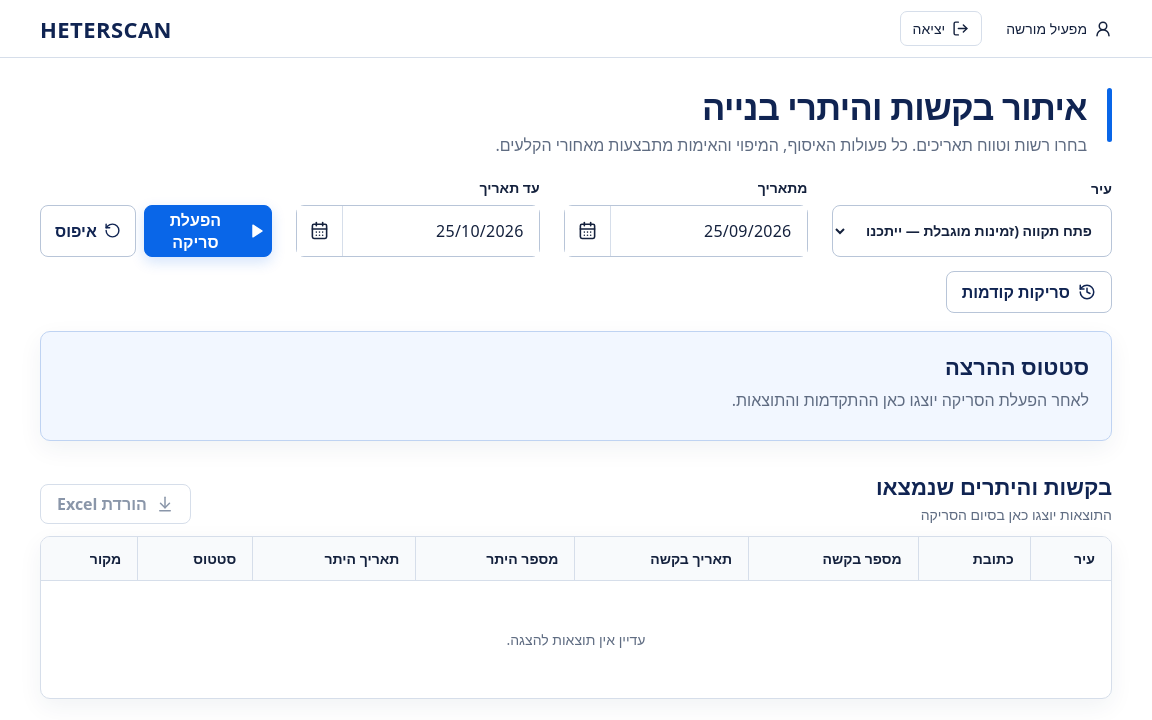
Test: App cancellation reset › clears a finished run from the screen without changing saved data
Click the button "הפעלת סריקה" at coordinates (208, 231), box [144, 205, 272, 257]
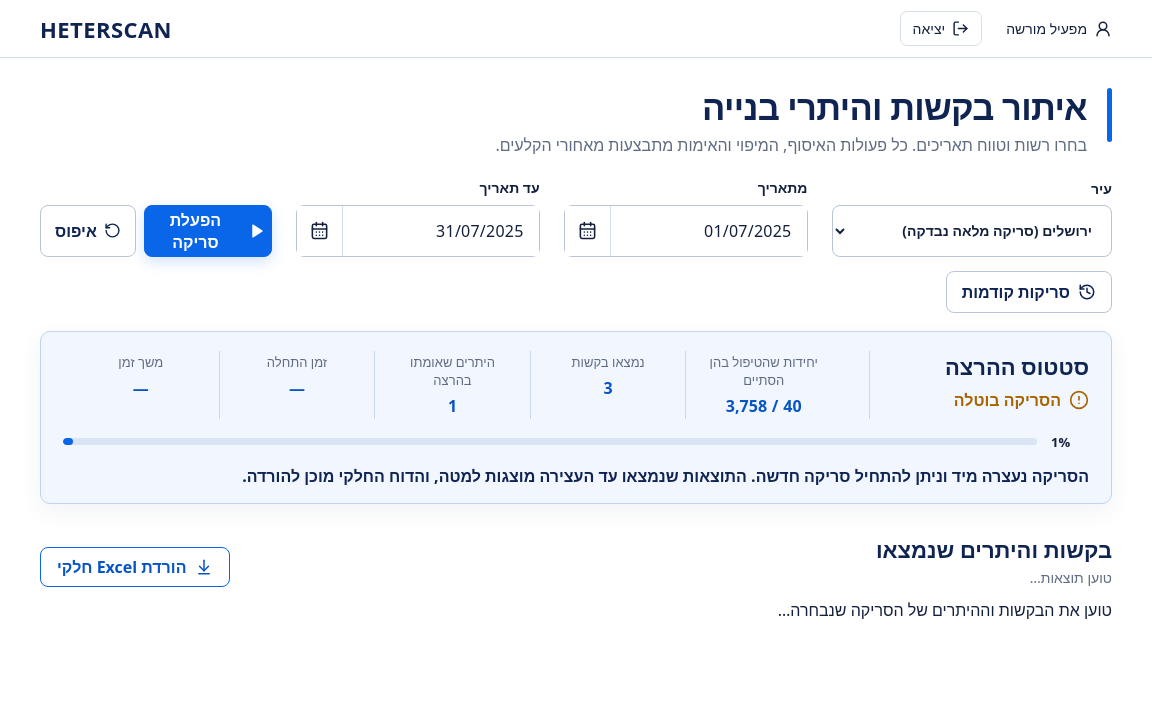
Result: the text "הסריקה בוטלה" is shown at [954, 389, 1089, 411]
Click the button "איפוס" at coordinates (88, 231), box [40, 205, 136, 257]
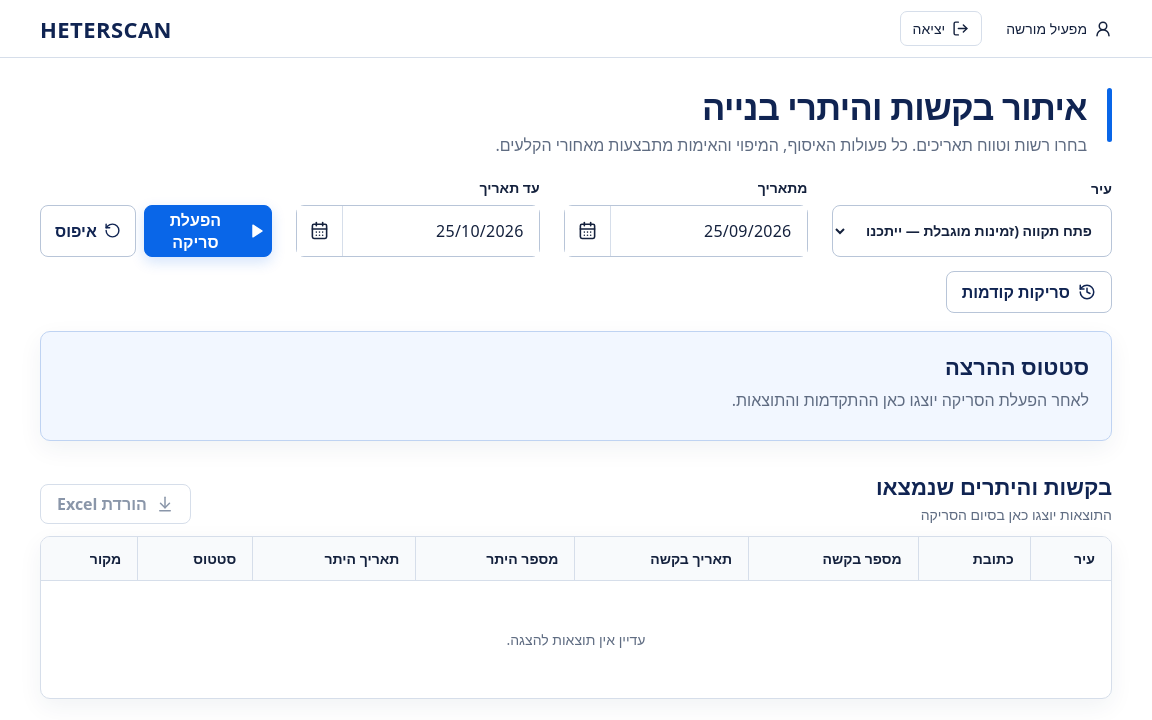
Result: the text "לאחר הפעלת הסריקה יוצגו כאן ההתקדמות והתוצאות." is shown at [732, 389, 1089, 411]
Result: the text "הסריקה בוטלה" is gone
Result: the dropdown labelled "עיר" shows "פתח תקווה (זמינות מוגבלת — ייתכנו עיכובים)" at [832, 205, 1112, 257]
